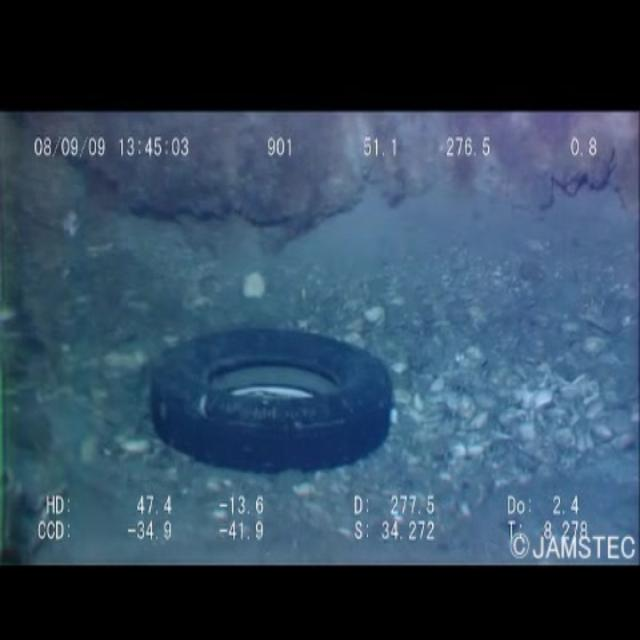Rubber: (154, 322, 400, 472)
